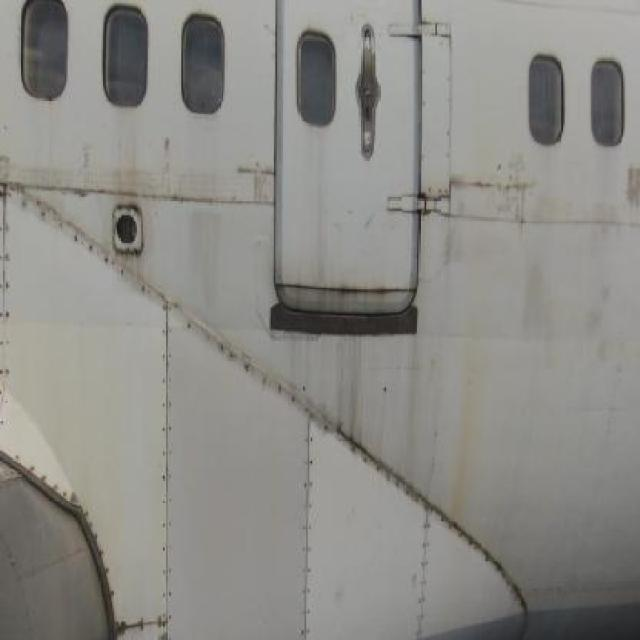Missing-Rivet: (1, 156, 14, 390), (114, 598, 174, 636)
Rust: (444, 250, 505, 527), (328, 310, 369, 436), (408, 320, 437, 485), (294, 269, 412, 303), (110, 108, 141, 206)
Scartch: (523, 205, 628, 384), (452, 162, 534, 226), (244, 156, 279, 207), (621, 153, 640, 212)
